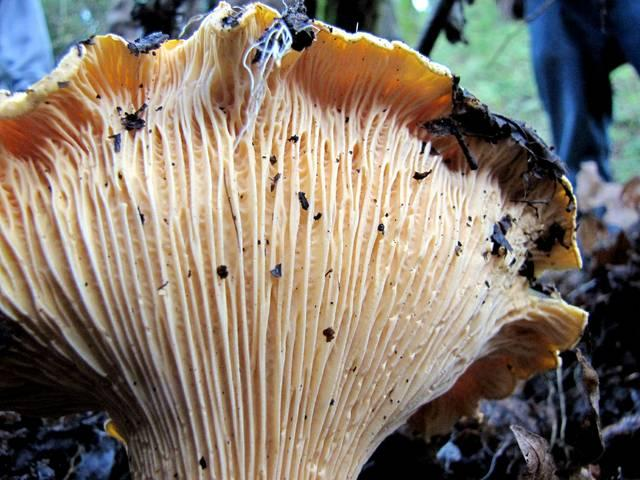edible_mushroom: (0, 0, 590, 479)
